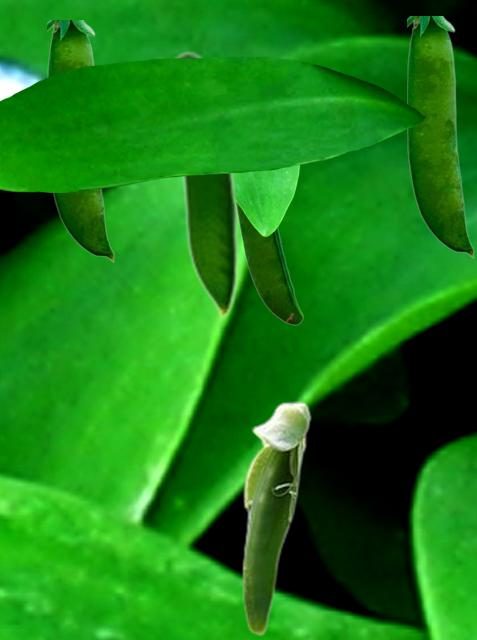pea: (169, 49, 238, 322), (241, 401, 311, 635), (47, 20, 113, 261), (407, 16, 473, 257), (239, 207, 302, 324)
